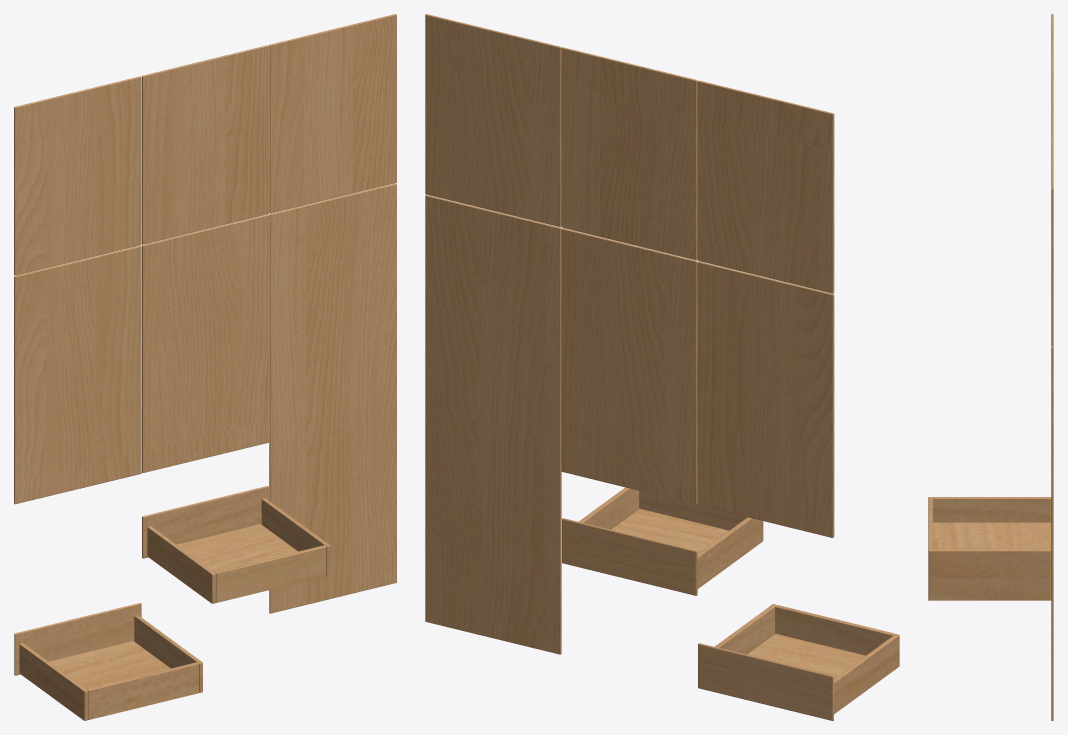
File: lockerTypeThreeViewOne.gltf
The picture shows the model from 3 angles, left to right: view 1: azimuth 30°, elevation 25°; view 2: azimuth 150°, elevation 25°; view 3: azimuth 270°, elevation 25°; orthographic projection. The views are drawn at different scales.
Parts seen in each view (by area): view 1: lockerTypeThreeViewOne; view 2: lockerTypeThreeViewOne; view 3: lockerTypeThreeViewOne.
Boxes of the visible parts, bbox=[...] form: lockerTypeThreeViewOne: bbox=[14, 14, 396, 720]; lockerTypeThreeViewOne: bbox=[425, 14, 899, 720]; lockerTypeThreeViewOne: bbox=[928, 14, 1053, 720].
Size of the model in its own units: 1.9 by 2.7 by 0.5742.
1 material, 1 textured.
